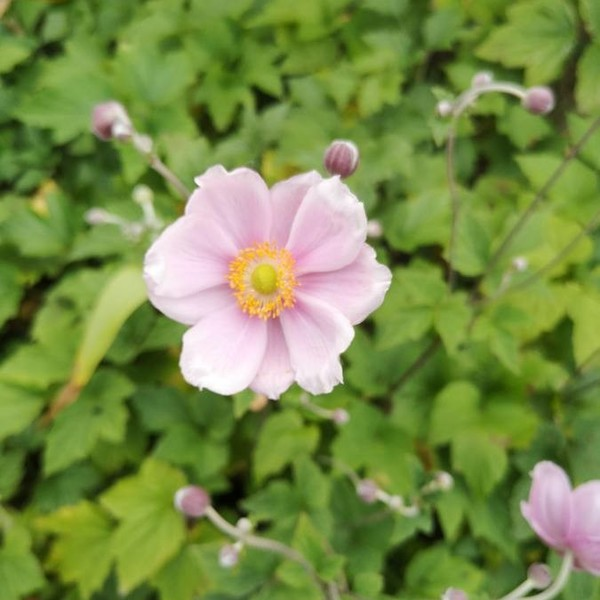obstacle: (382, 23, 561, 488), (172, 144, 392, 415)
